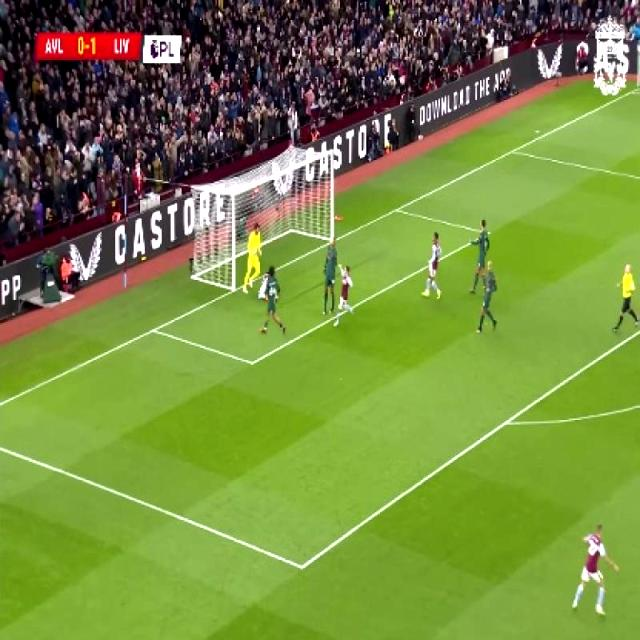bigarea_bottom_inner: (288, 548, 314, 582)
bigarea_top_outter: (503, 138, 522, 160)
bottom_arc_area_intersection: (494, 404, 518, 438)
corner: (627, 81, 640, 95)
smallarea_bottom_inner: (240, 344, 263, 379)
smallarea_bottom_outter: (142, 316, 163, 341)
smallarea_top_outter: (386, 197, 404, 220)
